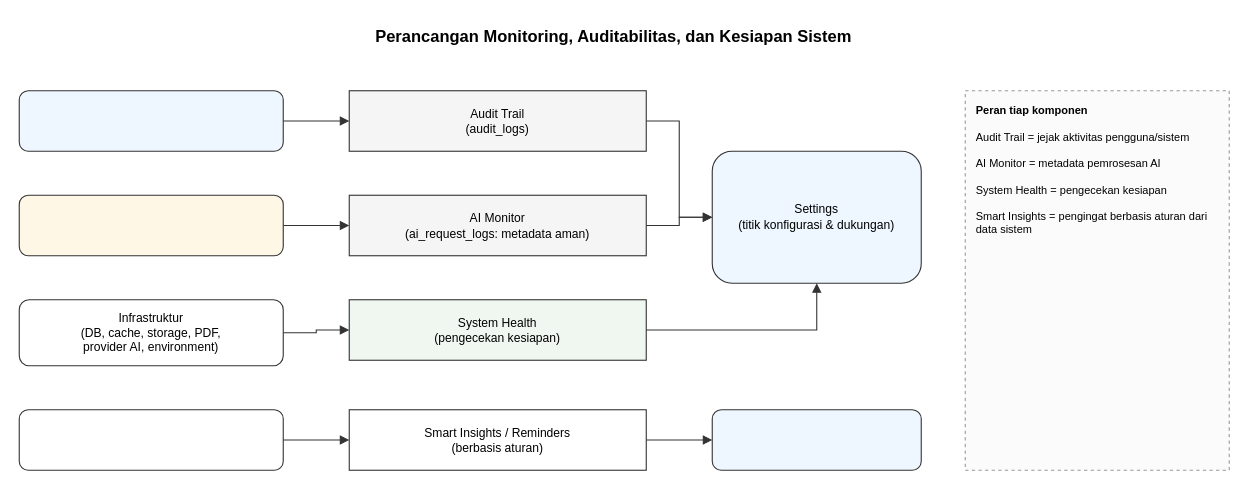
Image size: 1249x490. Some labels were removed from this diagram. The box of each missing label's shape, as (x1, y1, x2, y2) in pixels:
Aktivitas Sistem & Pengguna: (18, 90, 283, 151)
Dashboard / Topbar Notifikasi: (711, 409, 921, 470)
Data sistem (assignment, task, jadwal): (18, 409, 283, 470)
Pemrosesan AI: (18, 194, 283, 256)
